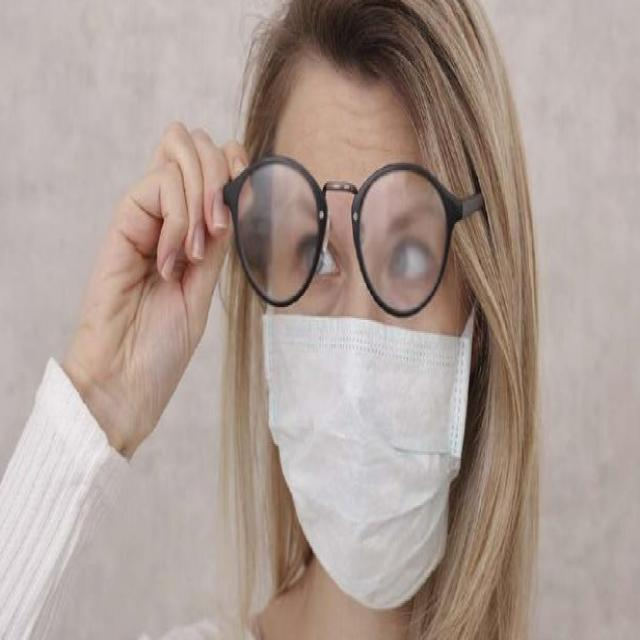Glasses: (222, 146, 490, 324)
